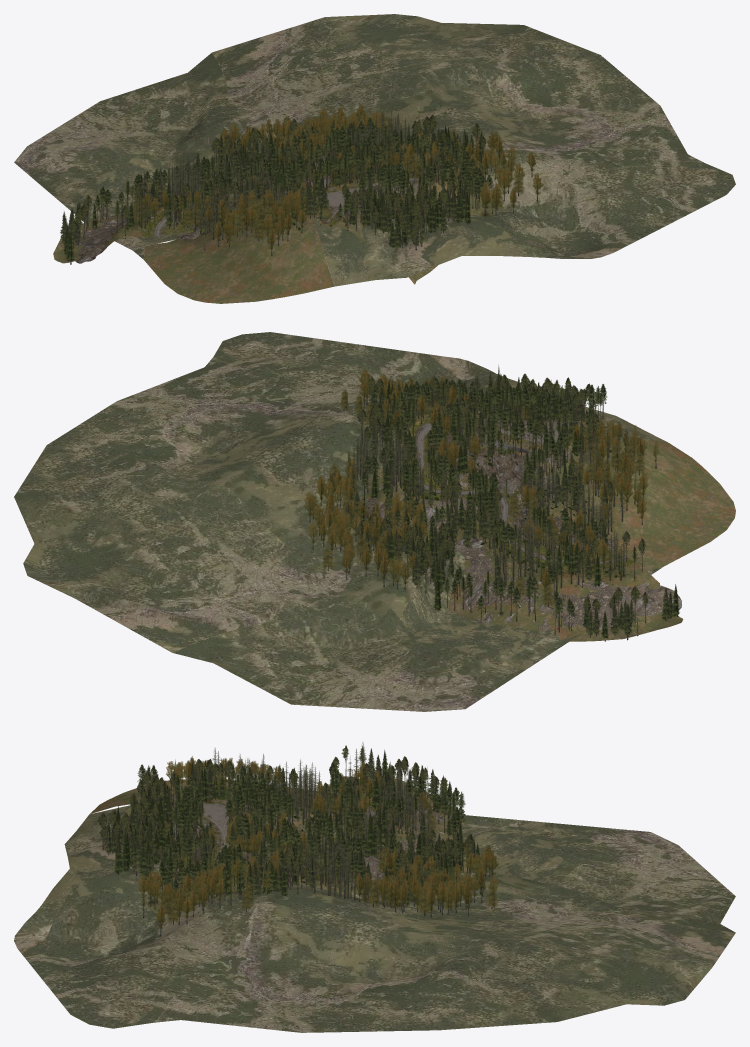
File: forest-dirt-trail.glb
The picture shows the model from 3 angles, top to bottom: view 1: azimuth 30°, elevation 25°; view 2: azimuth 150°, elevation 25°; view 3: azimuth 270°, elevation 25°; orthographic projection. The views are drawn at different scales.
Visible parts, largest first — view 1: Background_Tree_Atlas.020, Background_Tree_Atlas.001, Background_Tree_Atlas.021, Background_Tree_Atlas.006, Background_Tree_Atlas.019, Background_Tree_Atlas.024, Background_Tree_Atlas.025; view 2: Background_Tree_Atlas.020, Background_Tree_Atlas.001, Background_Tree_Atlas.021, Background_Tree_Atlas.019, Background_Tree_Atlas.006, Background_Tree_Atlas.022, Background_Tree_Atlas.024, Background_Tree_Atlas.013, Background_Tree_Atlas.025; view 3: Background_Tree_Atlas.020, Background_Tree_Atlas.001, Background_Tree_Atlas.006, Background_Tree_Atlas.021, Background_Tree_Atlas.019, Background_Tree_Atlas.004, Background_Tree_Atlas.024, Background_Tree_Atlas.013.
Boxes of the visible parts, x1,y1,x2,y2 form: Background_Tree_Atlas.020: [14, 14, 735, 286]; Background_Tree_Atlas.001: [60, 104, 542, 262]; Background_Tree_Atlas.021: [53, 158, 504, 303]; Background_Tree_Atlas.006: [67, 113, 518, 264]; Background_Tree_Atlas.019: [75, 153, 418, 263]; Background_Tree_Atlas.024: [143, 160, 439, 236]; Background_Tree_Atlas.025: [153, 168, 425, 236]; Background_Tree_Atlas.020: [14, 332, 667, 711]; Background_Tree_Atlas.001: [304, 365, 679, 638]; Background_Tree_Atlas.021: [361, 408, 735, 641]; Background_Tree_Atlas.019: [360, 418, 681, 634]; Background_Tree_Atlas.006: [313, 390, 675, 641]; Background_Tree_Atlas.022: [467, 450, 616, 552]; Background_Tree_Atlas.024: [397, 418, 634, 568]; Background_Tree_Atlas.013: [414, 421, 625, 565]; Background_Tree_Atlas.025: [417, 421, 629, 564]; Background_Tree_Atlas.020: [14, 790, 735, 1032]; Background_Tree_Atlas.001: [97, 742, 498, 933]; Background_Tree_Atlas.006: [102, 745, 492, 924]; Background_Tree_Atlas.021: [90, 776, 468, 916]; Background_Tree_Atlas.019: [172, 776, 468, 901]; Background_Tree_Atlas.004: [142, 779, 492, 936]; Background_Tree_Atlas.024: [160, 789, 386, 880]; Background_Tree_Atlas.013: [174, 800, 375, 868].
Size of the model in its own units: 548 by 111 by 546.
26 materials, 26 textured.
